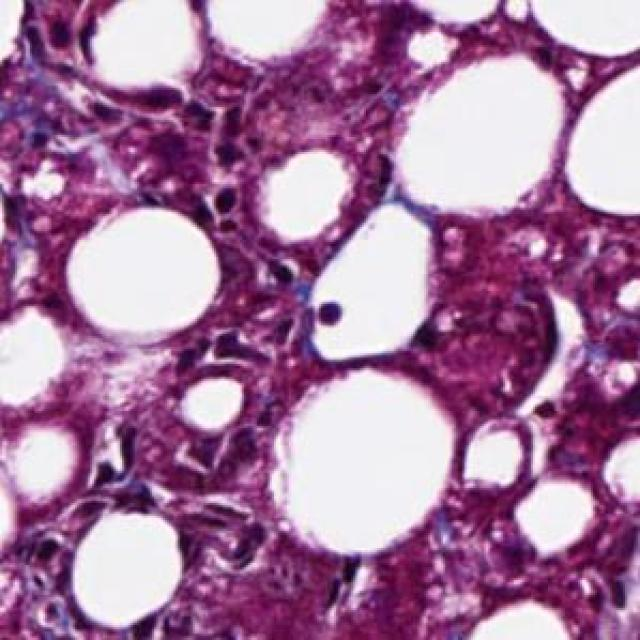inflammation: (105, 82, 259, 216), (157, 482, 280, 570), (169, 319, 270, 379)
